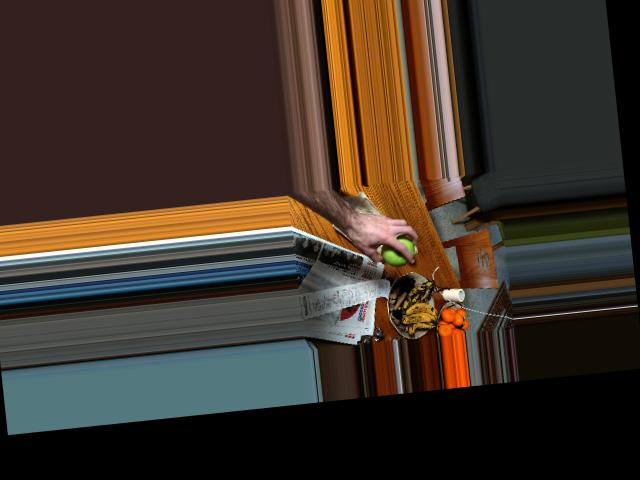apple: (378, 233, 416, 267)
